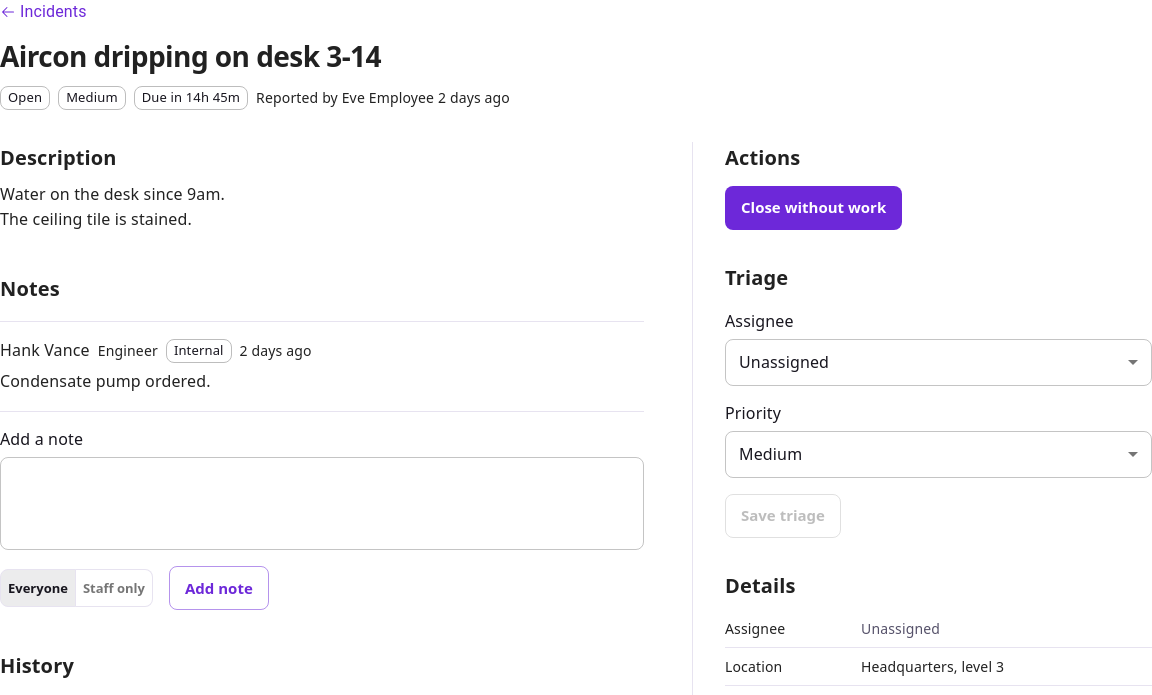
Test: IncidentPage › shows the transition error from the API inside the dialog
Click the button "Close without work" at (814, 208), box [725,186,902,230]
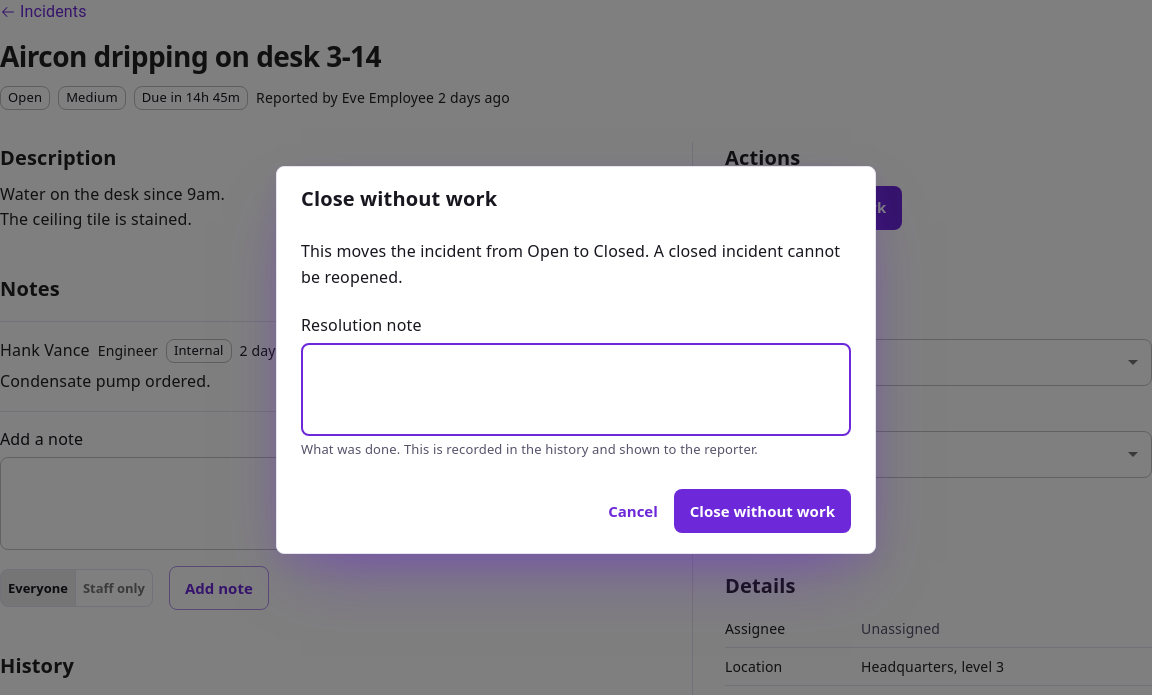
Type "Duplicate of another report." into the text box labelled "Resolution note" at (576, 390), box [301,343,851,436]
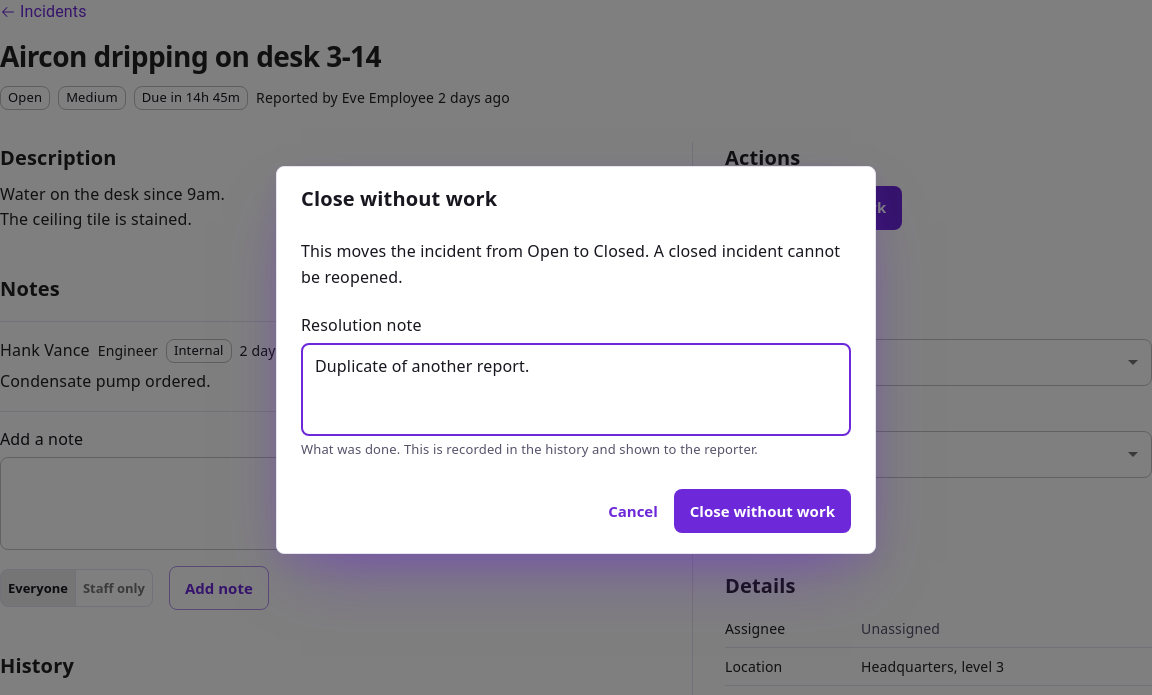
Click the button "Close without work" at (762, 511), box [674,489,851,533]
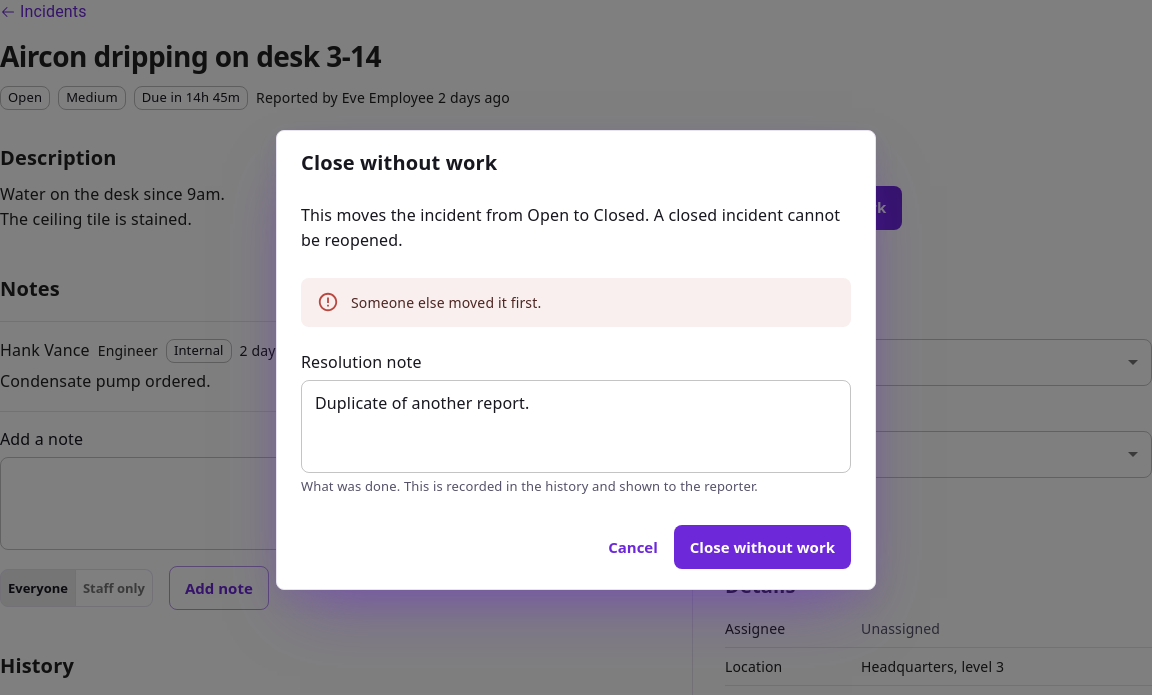
Expected: the message reads "Someone else moved it first.", [351,293,541,312]
